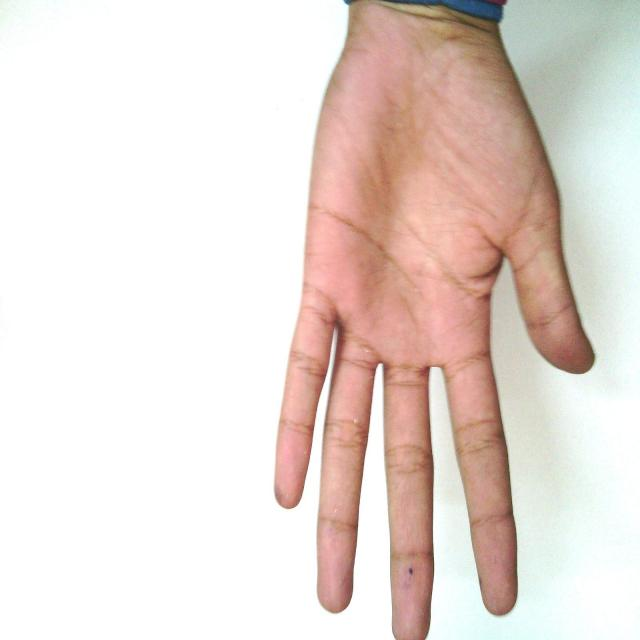others: (262, 0, 597, 640)
